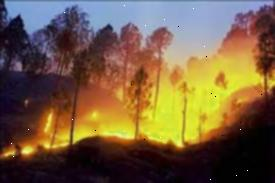fire: (0, 62, 263, 162)
